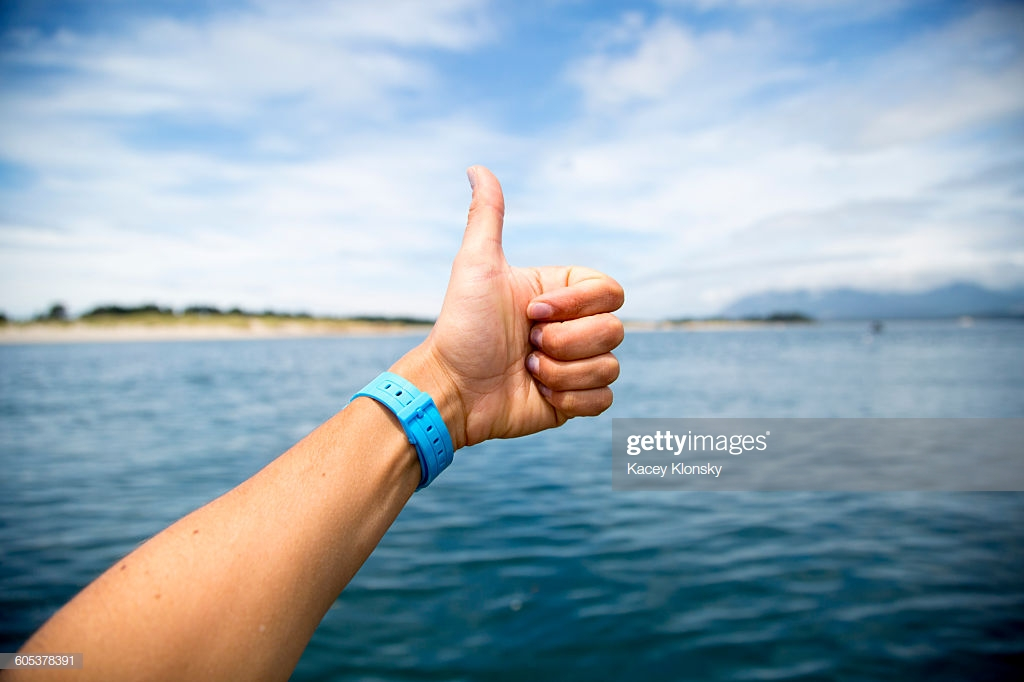thumbsup: (463, 164, 624, 420)
